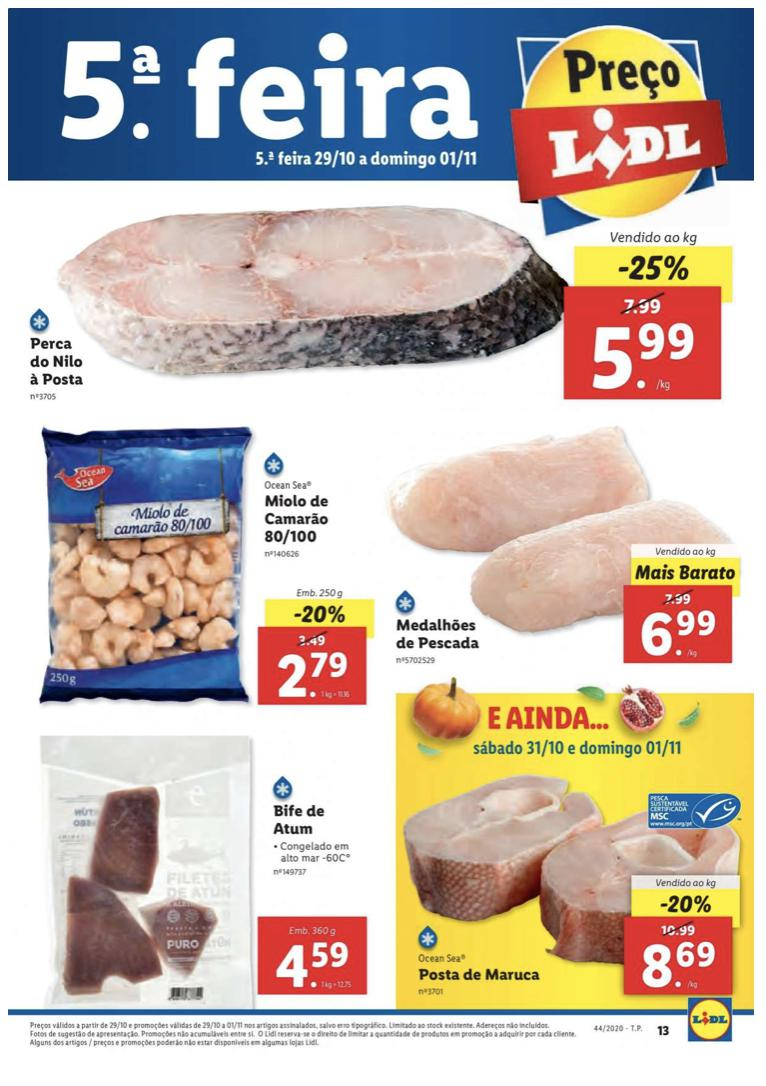name: (260, 491, 332, 546), (412, 964, 547, 991), (30, 337, 87, 392), (395, 619, 482, 653), (270, 803, 326, 835)
price: (588, 322, 700, 396), (642, 938, 720, 992), (638, 608, 718, 660), (274, 941, 355, 992), (276, 650, 349, 703)
product: (12, 203, 746, 420), (28, 423, 381, 726), (24, 715, 385, 1010), (391, 415, 764, 683), (399, 764, 754, 1007)
promotion: (616, 251, 692, 284), (658, 891, 712, 916)
